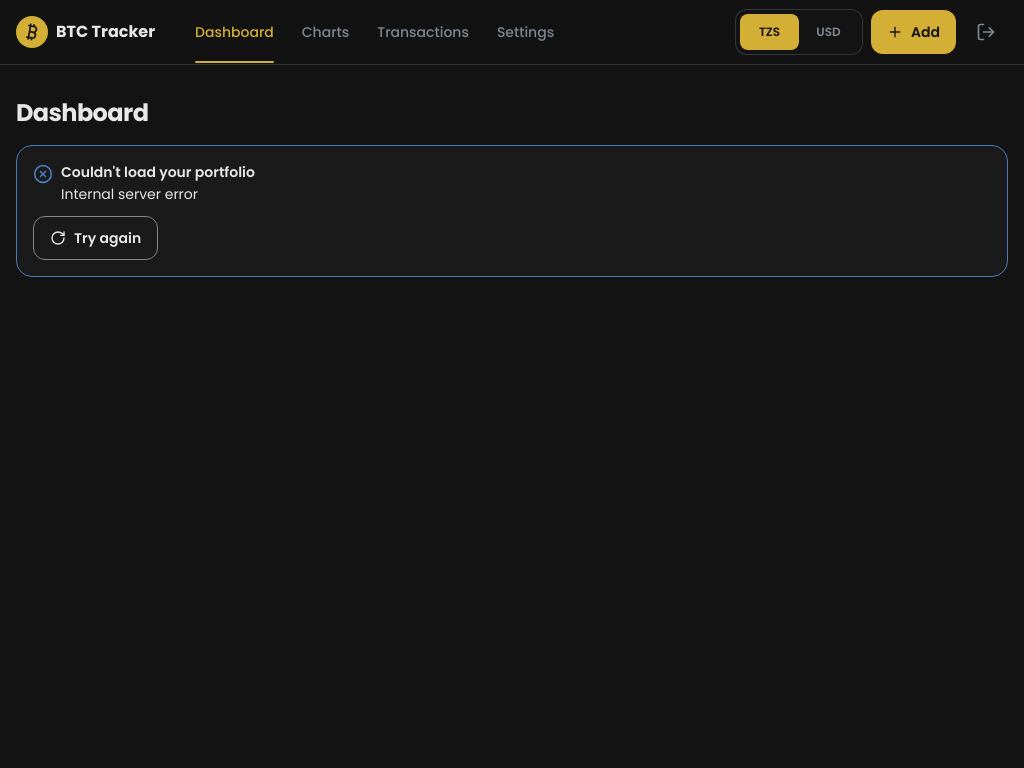
Dashboard › shows an error with a retry button when the summary fails
The width and height of the screenshot is (1024, 768).
Expected: the text "Couldn't load your portfolio" is shown, x1=61 y1=162 x2=255 y2=182
Click the button "Try again": (96, 238) x1=33 y1=216 x2=158 y2=260
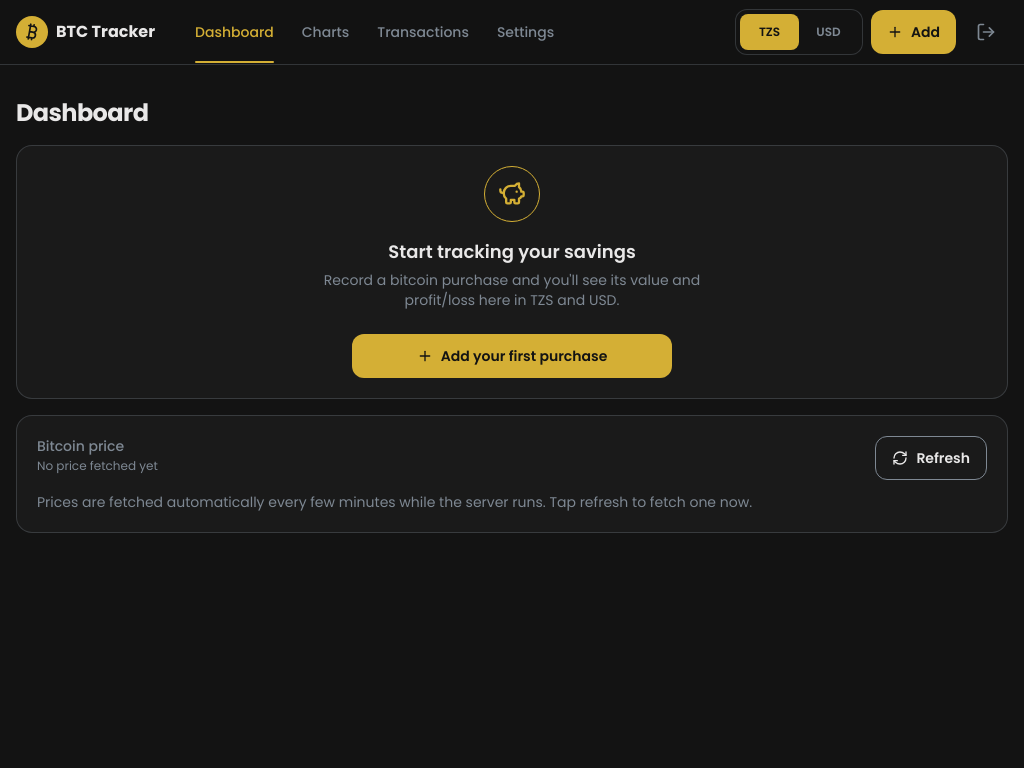
Result: the link "Add your first purchase" is shown at x1=352 y1=334 x2=672 y2=378
